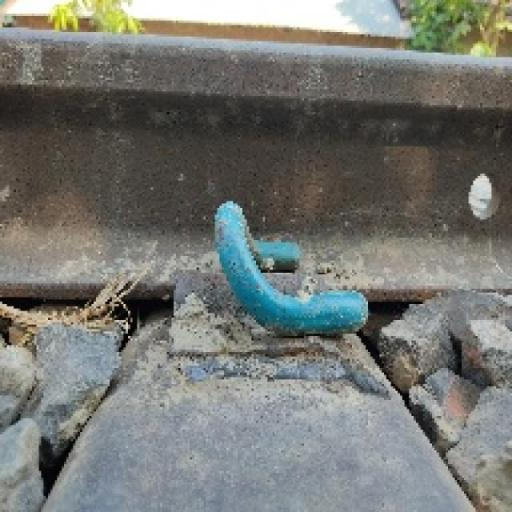erc_good: (174, 201, 366, 345)
